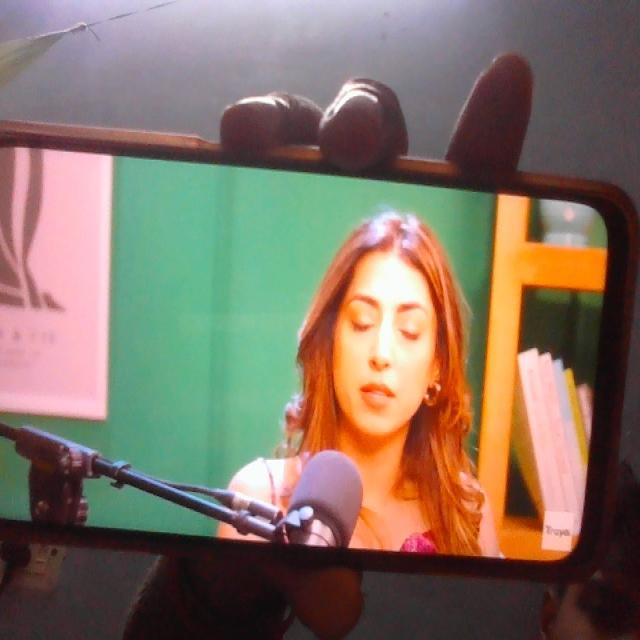fake: (322, 208, 449, 448)
